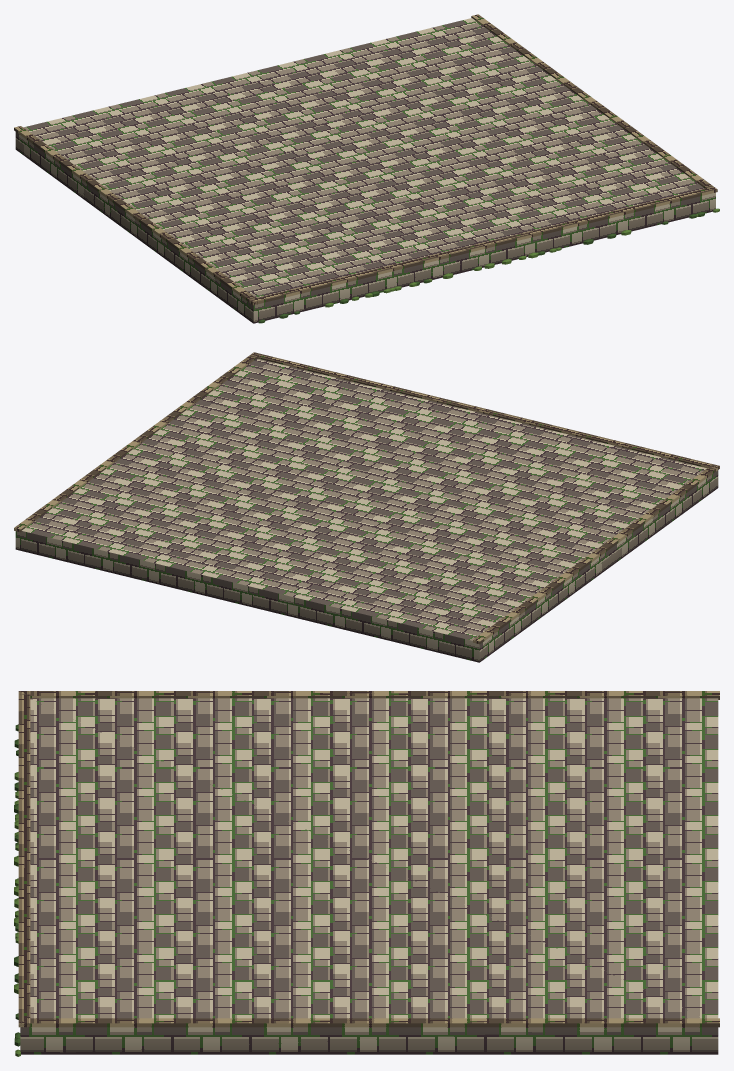
The model's file is scene_wall_s.glb.
3 views of the same model, one above another, from view 1: azimuth 30°, elevation 25°; view 2: azimuth 150°, elevation 25°; view 3: azimuth 270°, elevation 25° (orthographic). The views are drawn at different scales.
Parts seen in each view (by area): view 1: scene_wall_s; view 2: scene_wall_s; view 3: scene_wall_s.
Boxes of the visible parts, x1,y1,x2,y2 form: scene_wall_s: (14, 14, 719, 323); scene_wall_s: (14, 352, 719, 662); scene_wall_s: (14, 691, 719, 1056).
Bounding box in the file's own units: 24.22 × 1.17 × 21.64.
Materials: 2 (1 with a texture image).
